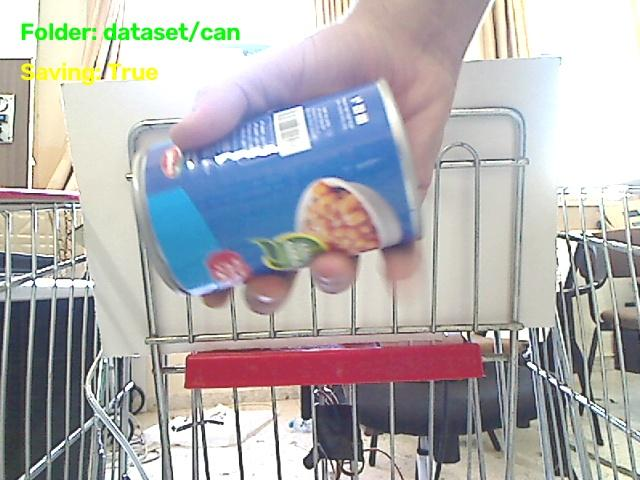can: (132, 80, 420, 294)
